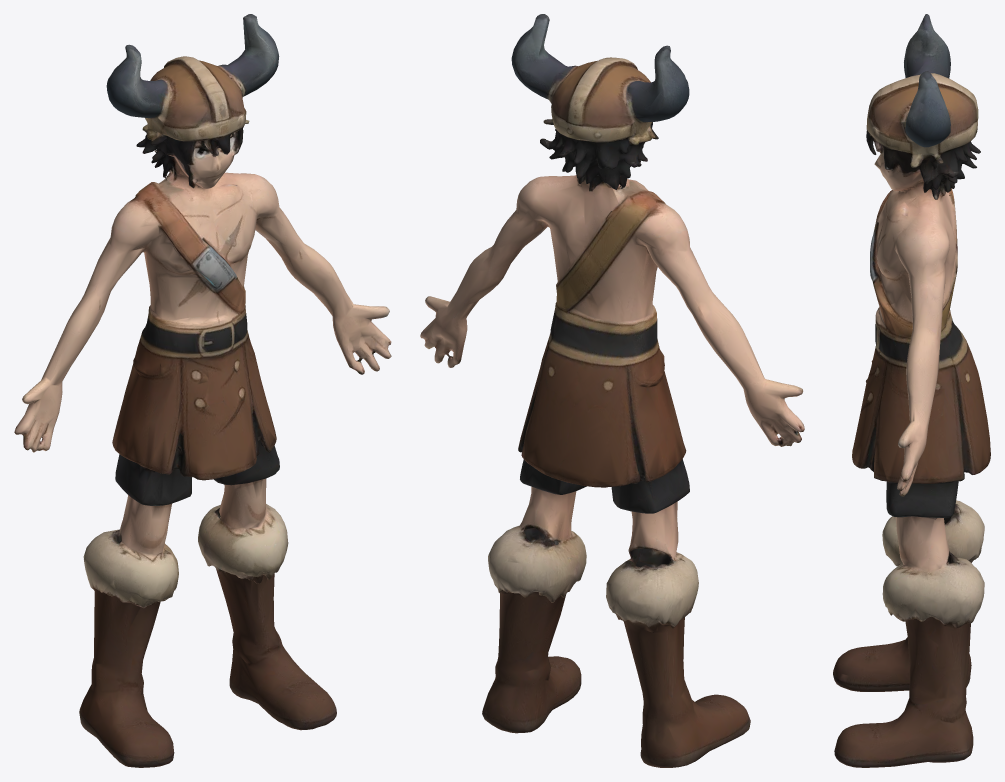
File: luffy-elbaf4.opt.glb
The picture shows the model from 3 angles, left to right: view 1: azimuth 30°, elevation 25°; view 2: azimuth 150°, elevation 25°; view 3: azimuth 270°, elevation 25°; orthographic projection. The views are drawn at different scales.
Bounding box in the file's own units: 1.14 × 2 × 0.4236.
Materials: 1 (1 with a texture image).
